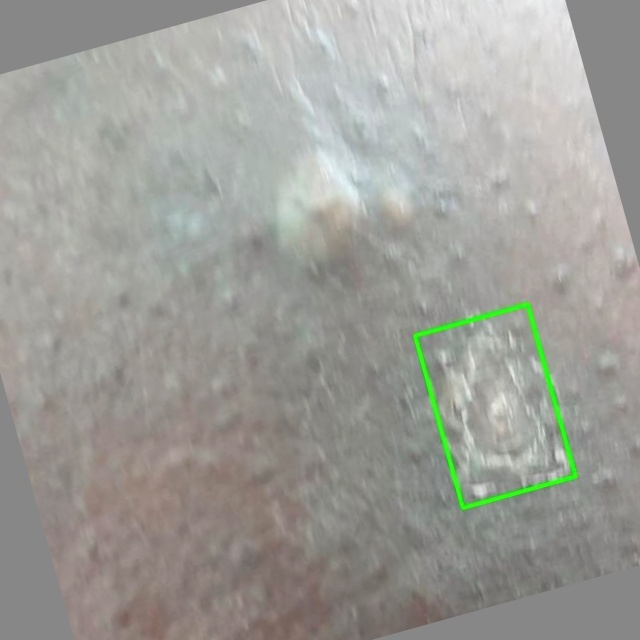Seborrheic Dermatitis: (415, 304, 575, 507)
